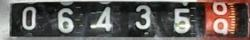digits: (172, 8, 190, 33), (57, 7, 74, 33), (134, 5, 150, 30), (97, 6, 112, 32), (22, 6, 37, 30), (213, 18, 229, 38)
